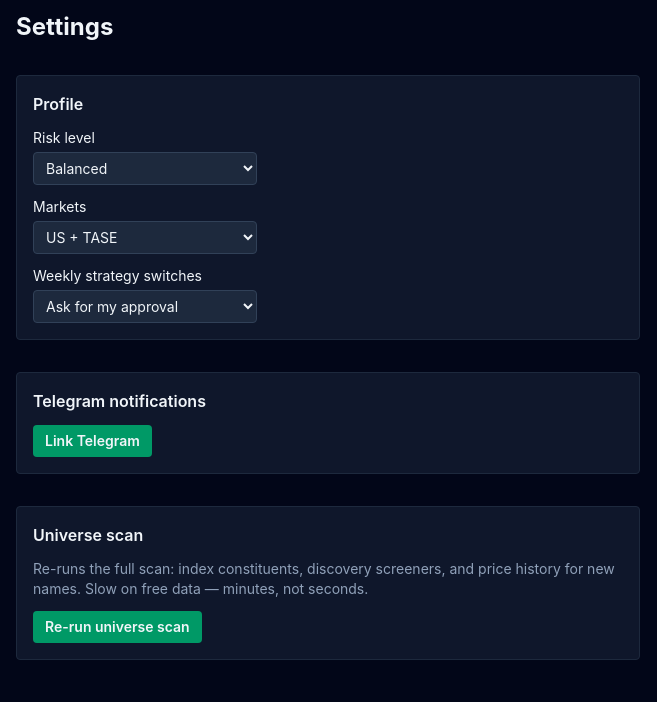
Test: SettingsPage › shows the one-time code after starting a Telegram link
The image size is (657, 702).
Click the button "Link Telegram" at {"x": 92, "y": 441}, box x1=33 y1=425 x2=152 y2=457
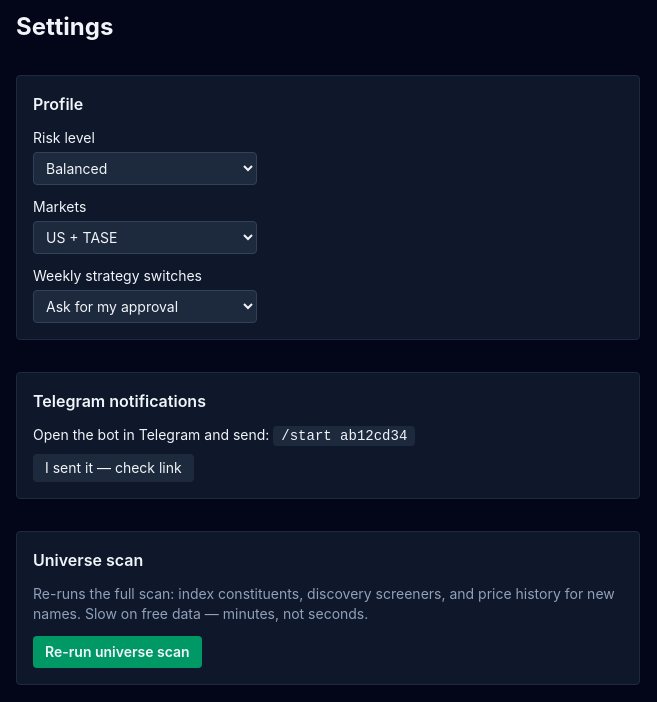
expect the text "/start ab12cd34" is shown: met, box x1=273 y1=426 x2=415 y2=446
expect the button "I sent it — check link" is shown: met, box x1=33 y1=454 x2=194 y2=482
